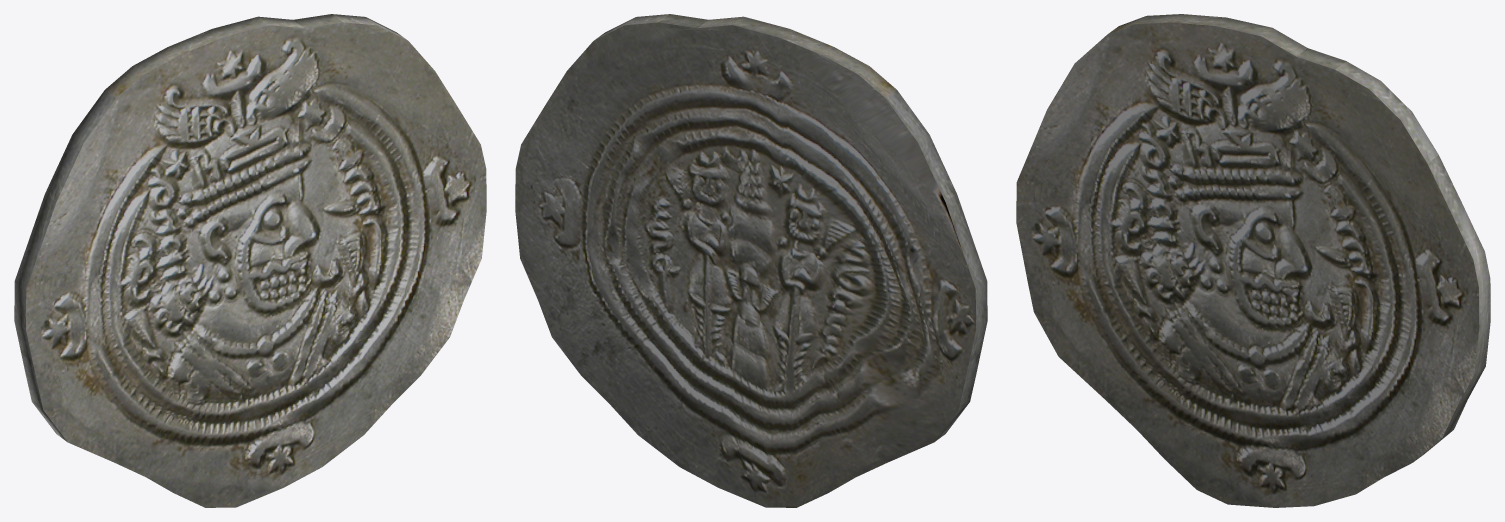
The model's file is Ancient Persia_ Sassanian Coin (590-627AD).fbx.
3 renders of one model, left to right at view 1: azimuth 30°, elevation 25°; view 2: azimuth 150°, elevation 25°; view 3: azimuth 330°, elevation 25°, orthographic.
Parts seen in each view (by area): view 1: Ancient Persia: Sassanian Coin (590-627AD); view 2: Ancient Persia: Sassanian Coin (590-627AD); view 3: Ancient Persia: Sassanian Coin (590-627AD).
Part boxes in pixels (bbox=[...]): Ancient Persia: Sassanian Coin (590-627AD): bbox=[14, 14, 486, 507]; Ancient Persia: Sassanian Coin (590-627AD): bbox=[515, 14, 987, 507]; Ancient Persia: Sassanian Coin (590-627AD): bbox=[1016, 14, 1490, 507].
Size of the model in its own units: 231 by 228 by 10.
Materials: 1 (1 with a texture image).
